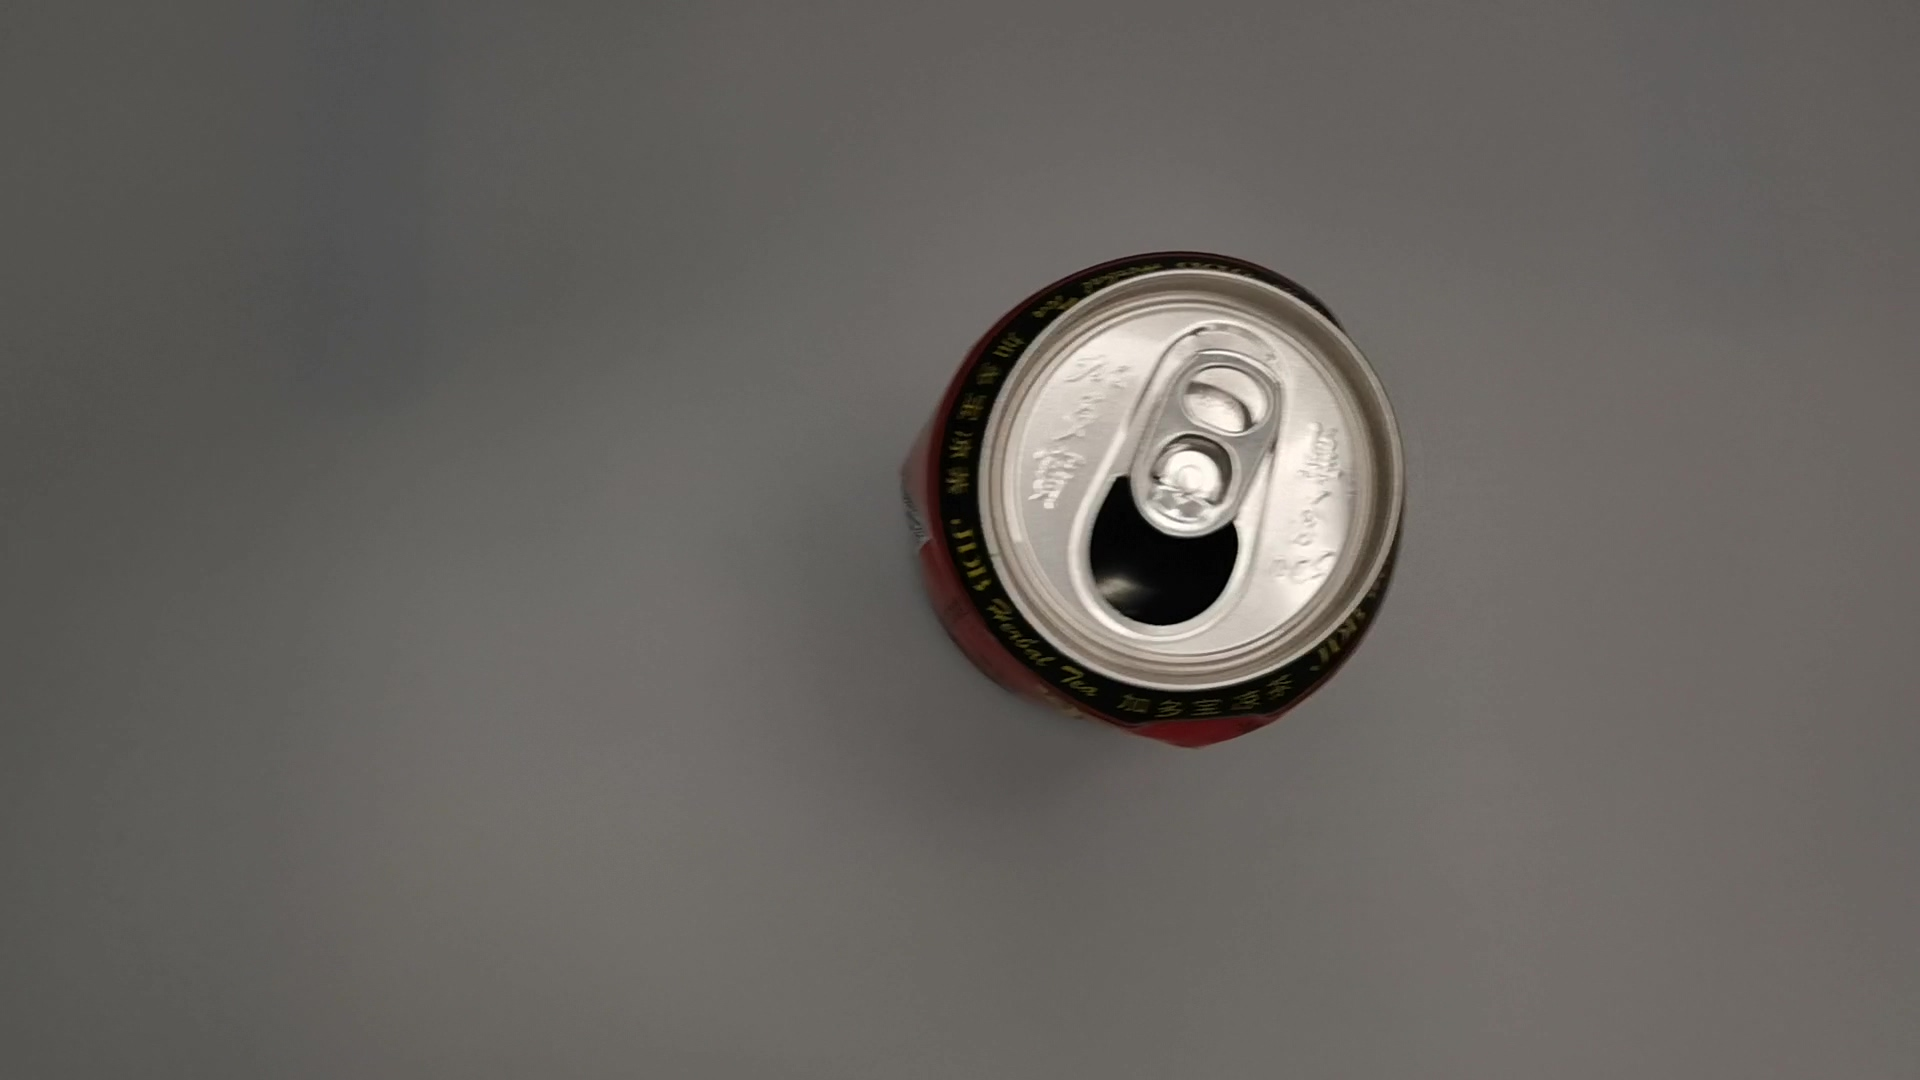can: (893, 243, 1422, 760)
